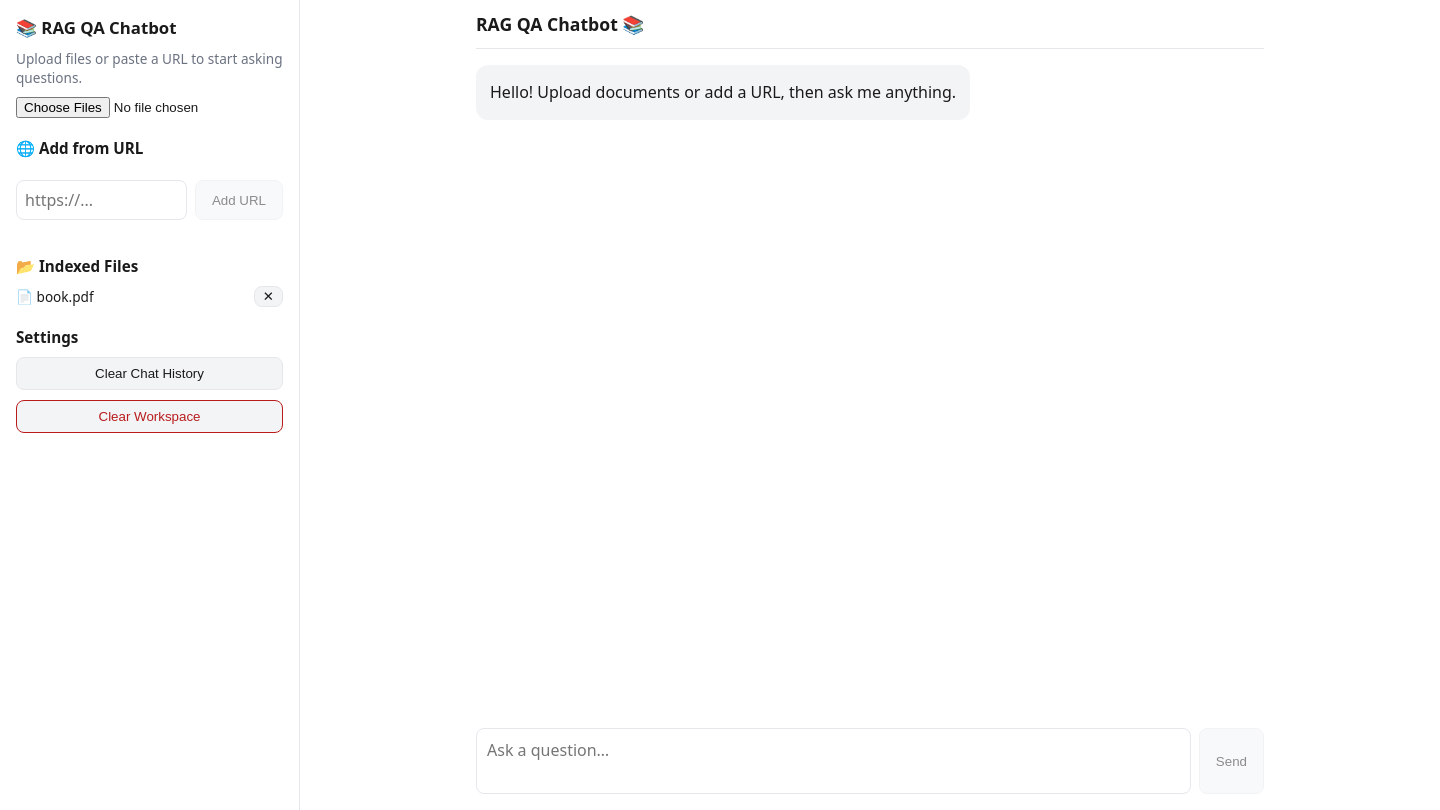
Test: App chat › shows the question, then the streamed answer with its sources
Type "In what year was BERT introduced?" into the text box with placeholder "Ask a question…".
click(833, 761); type("In what year was BERT introduced?")  # box [476, 728, 1191, 794]
Then press Enter
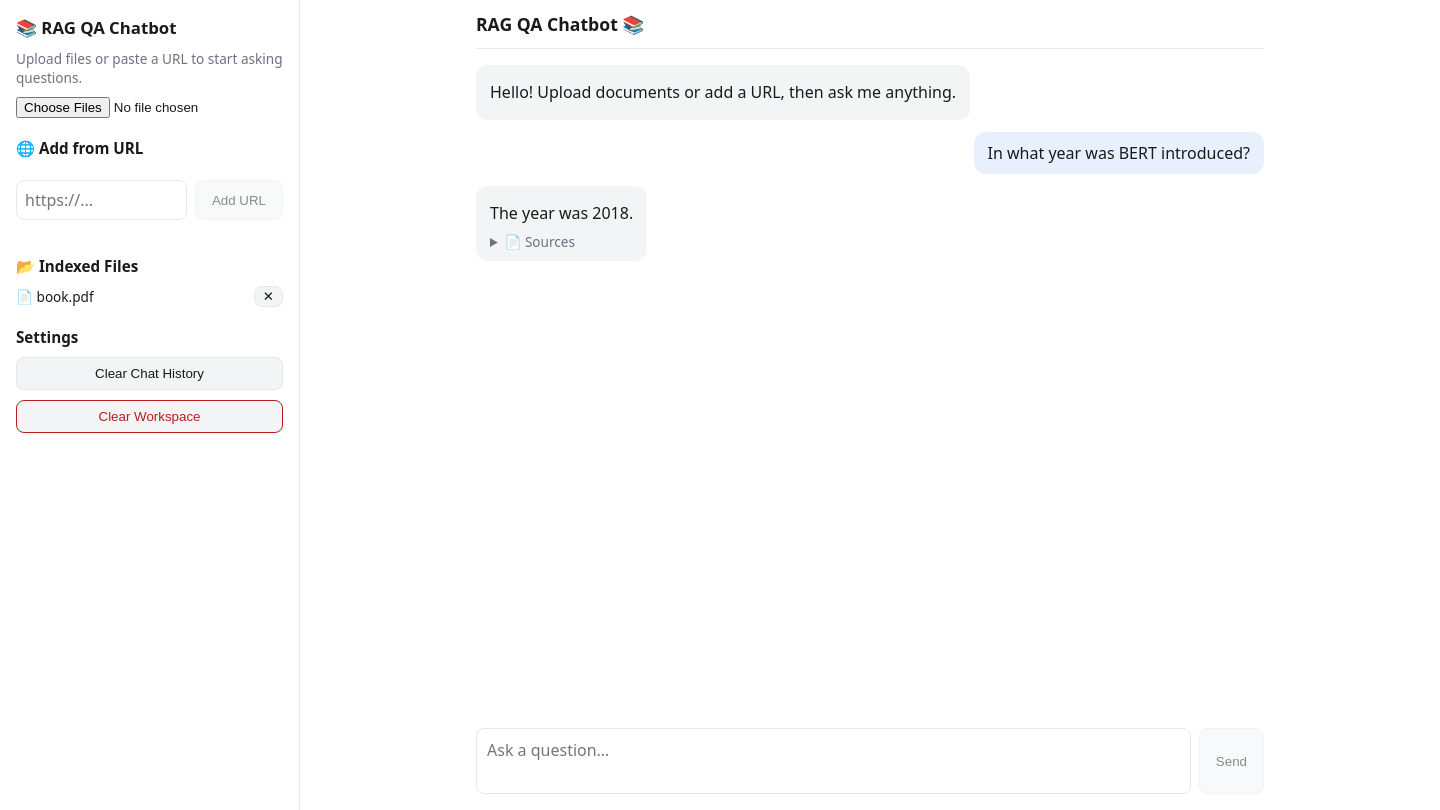
Check: the text "In what year was BERT introduced?" is shown, box [988, 142, 1250, 164]
Check: the text "The year was 2018." is shown, box [490, 202, 633, 224]
